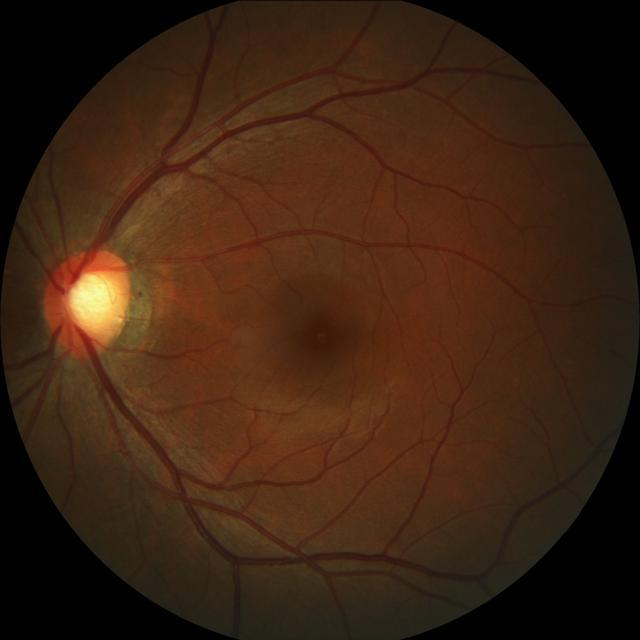OC: (59, 269, 123, 335)
OD: (44, 246, 132, 354)
